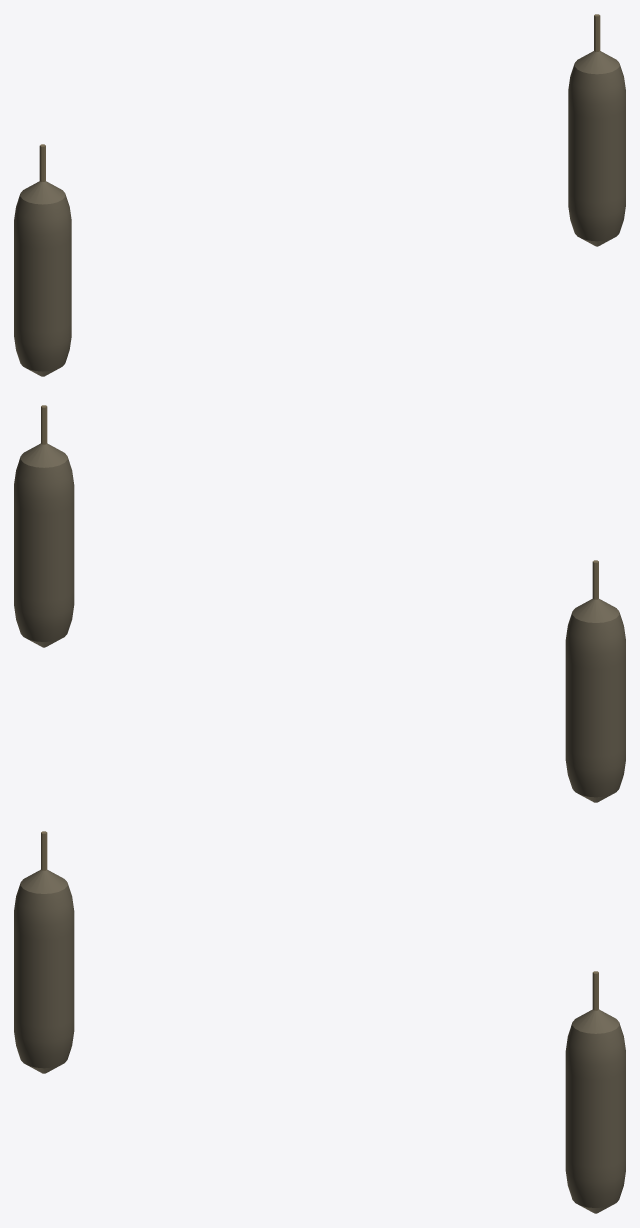
The model's file is Fenders.fbx.
The picture shows the model from 3 angles, top to bottom: view 1: azimuth 30°, elevation 25°; view 2: azimuth 150°, elevation 25°; view 3: azimuth 330°, elevation 25°; orthographic projection. The views are drawn at different scales.
Parts seen in each view (by area): view 1: Fenders; view 2: Fenders; view 3: Fenders.
Part boxes in pixels (x1,y1,x2,y2): Fenders: (14,14,625,376); Fenders: (14,405,625,802); Fenders: (14,831,625,1213).
Bounding box in the file's own units: 1.75 × 0.6708 × 0.2126.
